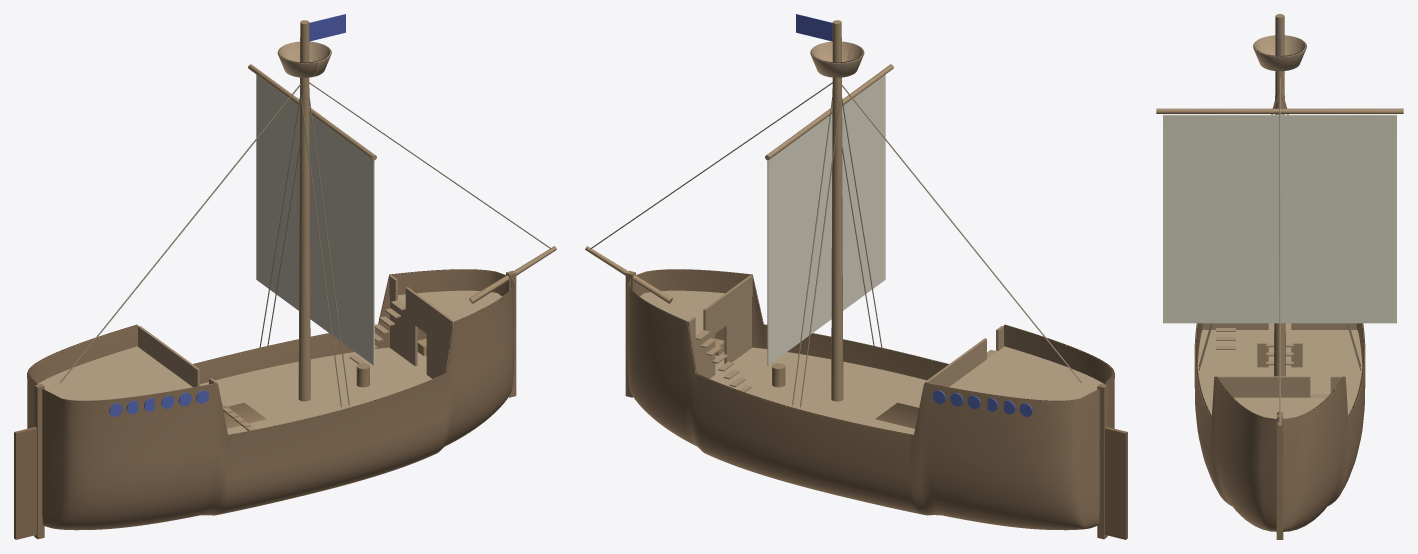
The model's file is french-cog.glb.
The picture shows the model from 3 angles, left to right: view 1: azimuth 30°, elevation 25°; view 2: azimuth 150°, elevation 25°; view 3: azimuth 270°, elevation 25°; orthographic projection.
Parts seen in each view (by area): view 1: hull, square-sail, deck, mast, rudder, aft-castle-front-rail-a, fighting-top, fore-bulkhead-port, forecastle-front-rail-b, sternpost, fore-bulkhead-starboard, yard (+2 smaller); view 2: hull, square-sail, deck, mast, rudder, fighting-top, fore-bulkhead-starboard, aft-castle-front-rail-a, forecastle-front-rail-b, sternpost, fore-bulkhead-port, yard (+2 smaller); view 3: square-sail, hull, deck, forecastle-front-rail-b, yard, mast, fighting-top, stempost, forestay, aft-bulkhead-port, aft-bulkhead-starboard.
Part boxes in pixels (x1,y1,x2,y2): hull: [27, 269, 514, 530]; square-sail: [256, 75, 374, 365]; deck: [37, 290, 502, 434]; mast: [298, 20, 310, 401]; rudder: [14, 427, 36, 539]; aft-castle-front-rail-a: [138, 326, 199, 387]; fighting-top: [277, 41, 331, 77]; fore-bulkhead-port: [390, 297, 417, 366]; forecastle-front-rail-b: [405, 287, 454, 340]; sternpost: [34, 384, 44, 539]; fore-bulkhead-starboard: [426, 324, 450, 378]; yard: [248, 64, 376, 160]; hull: [627, 269, 1114, 530]; square-sail: [767, 75, 885, 365]; deck: [639, 290, 1104, 434]; mast: [831, 20, 843, 401]; rudder: [1105, 427, 1127, 539]; fighting-top: [810, 41, 864, 77]; fore-bulkhead-starboard: [724, 297, 751, 363]; aft-castle-front-rail-a: [925, 338, 986, 387]; forecastle-front-rail-b: [703, 275, 752, 330]; sternpost: [1097, 384, 1107, 539]; fore-bulkhead-port: [691, 324, 715, 378]; yard: [765, 64, 893, 160]; square-sail: [1163, 114, 1396, 323]; hull: [1194, 323, 1365, 531]; deck: [1197, 323, 1362, 418]; forecastle-front-rail-b: [1217, 376, 1310, 397]; yard: [1156, 108, 1403, 113]; mast: [1274, 14, 1285, 376]; fighting-top: [1253, 35, 1306, 71]; stempost: [1276, 414, 1283, 539]; forestay: [1279, 78, 1280, 420]; aft-bulkhead-port: [1291, 323, 1356, 329]; aft-bulkhead-starboard: [1203, 323, 1268, 329].
Size of the model in its own units: 27.65 by 22.25 by 11.
